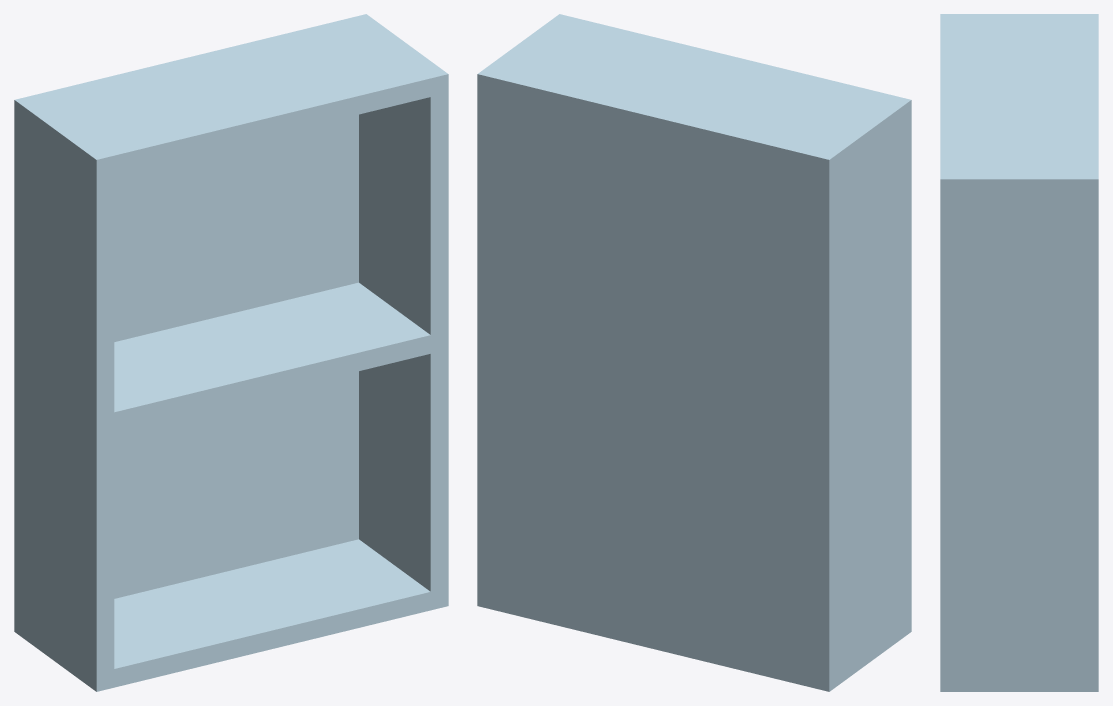
3 renders of one model, left to right at view 1: azimuth 30°, elevation 25°; view 2: azimuth 150°, elevation 25°; view 3: azimuth 270°, elevation 25°, orthographic. The views are drawn at different scales.
Parts seen in each view (by area): view 1: Part 1; view 2: Part 1; view 3: Part 1.
Boxes of the visible parts, left/top/right/bottom form: Part 1: left=14, top=14, right=448, bottom=691; Part 1: left=477, top=14, right=911, bottom=691; Part 1: left=940, top=14, right=1098, bottom=691.
Bounding box in the file's own units: 0.099 × 0.143 × 0.04.
